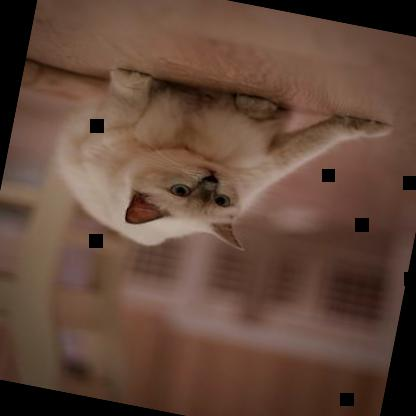cat: (0, 46, 397, 288)
